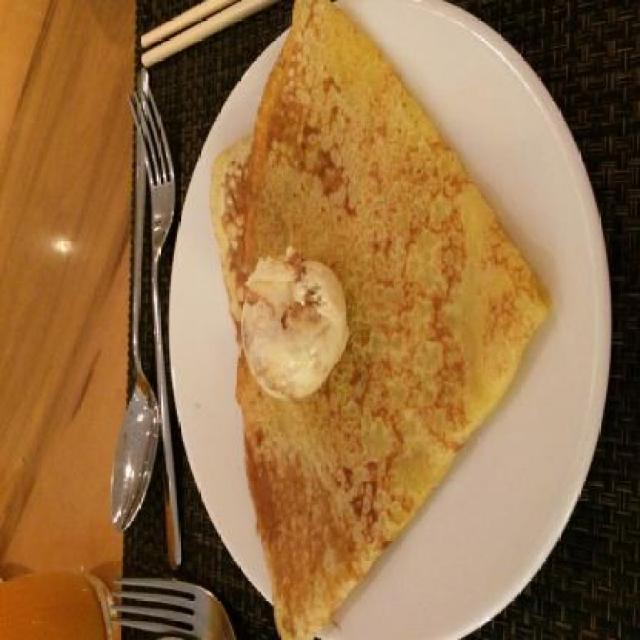Pancake: (215, 14, 558, 620)
